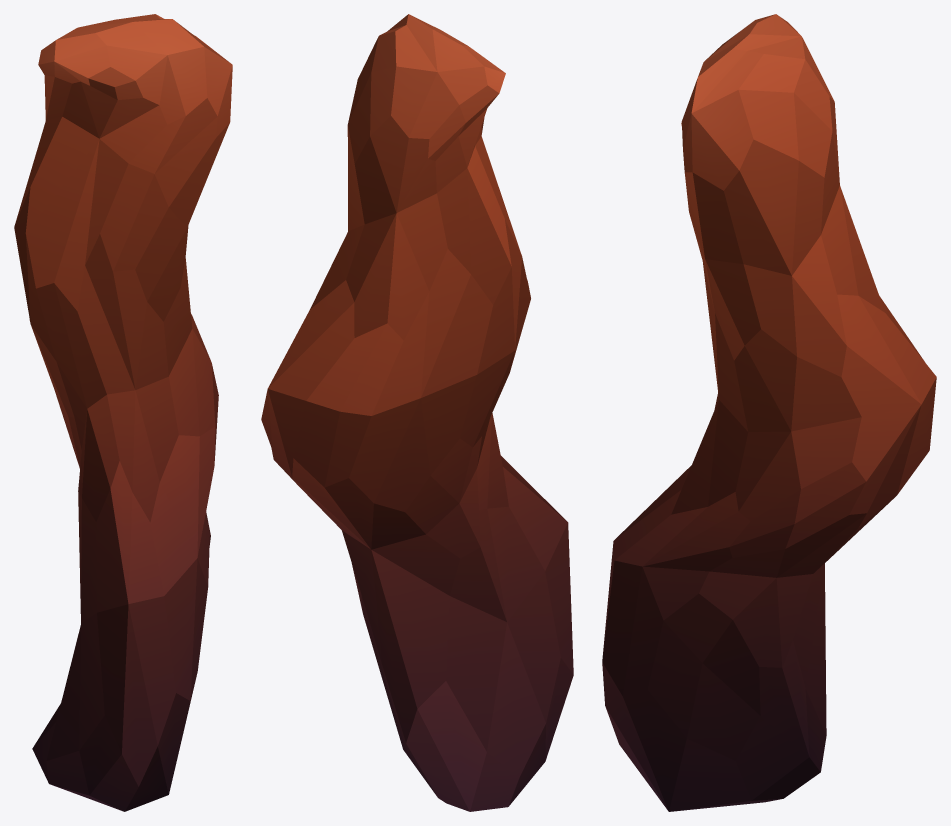
Rendered from 02_twig_03.fbx.
The picture shows the model from 3 angles, left to right: view 1: azimuth 30°, elevation 25°; view 2: azimuth 150°, elevation 25°; view 3: azimuth 270°, elevation 25°; orthographic projection. The views are drawn at different scales.
Visible parts, largest first — view 1: 02 twig_03; view 2: 02 twig_03; view 3: 02 twig_03.
Part boxes in pixels (box(x1,y1,x2,y2)): 02 twig_03: box(14, 14, 232, 811); 02 twig_03: box(261, 14, 573, 811); 02 twig_03: box(602, 14, 936, 811).
Bounding box in the file's own units: 22.19 × 76.04 × 29.02.
